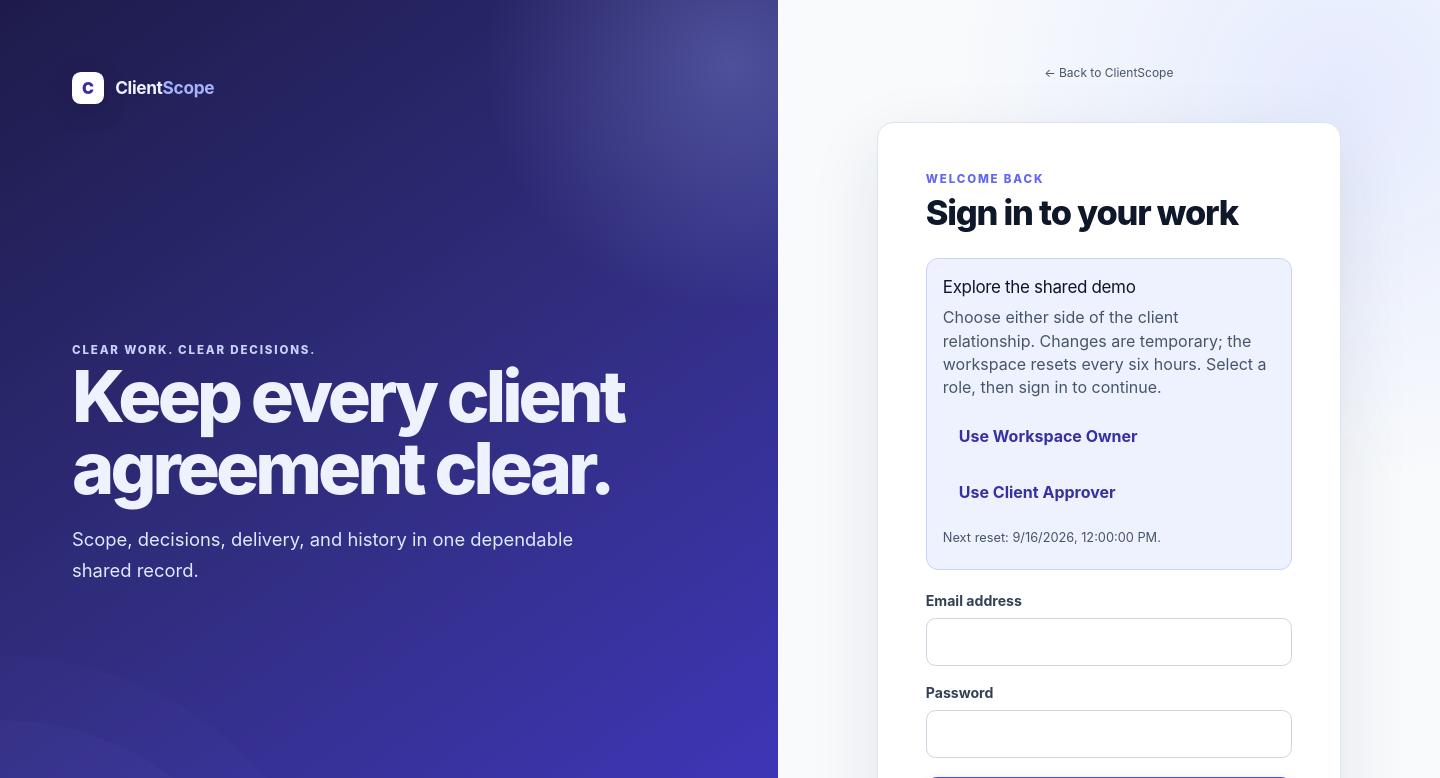
Test case: public demo entry › offers the two published identities alongside ordinary account access
Click the button "Use Client Approver" at (1037, 492), box [943,468,1132,517]
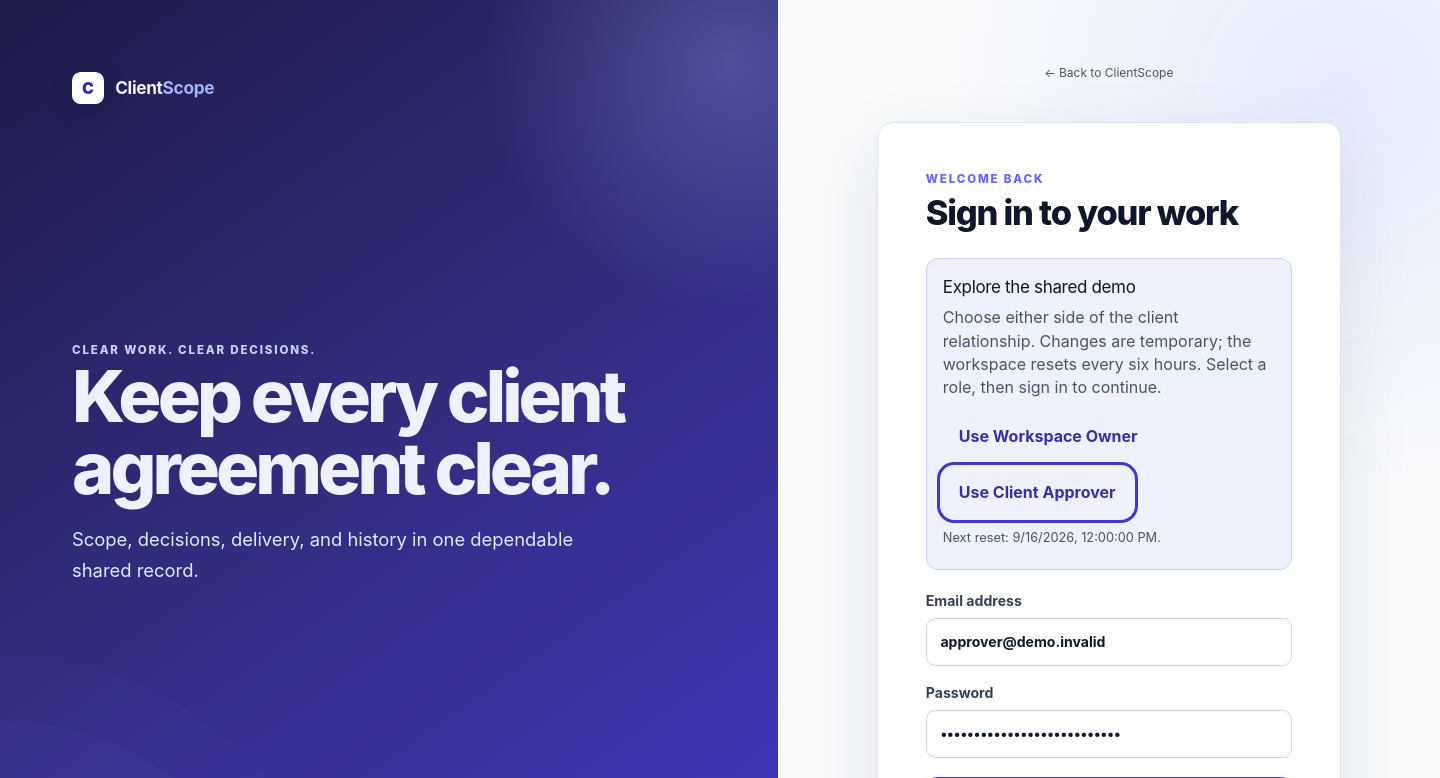
Expected: the text "Changes are temporary" is shown, [943,307,1267,397]
Expected: the field labelled "Email address" holds "approver@demo.invalid", [926,618,1292,666]
Expected: the password field labelled "Password" holds "approver-unique-demo-secret", [926,710,1292,758]
